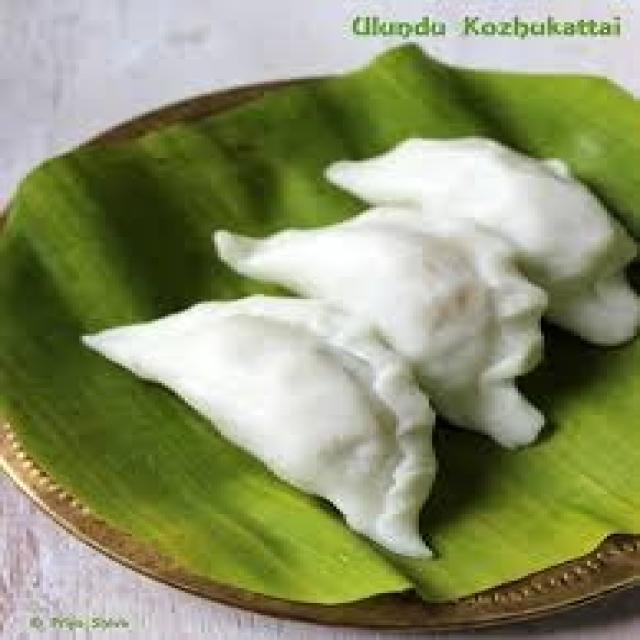poorna kolukattai: (92, 96, 640, 544)
